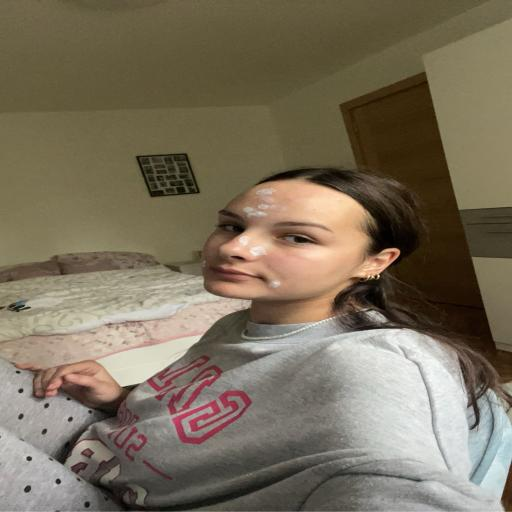marija: (201, 172, 377, 303)
